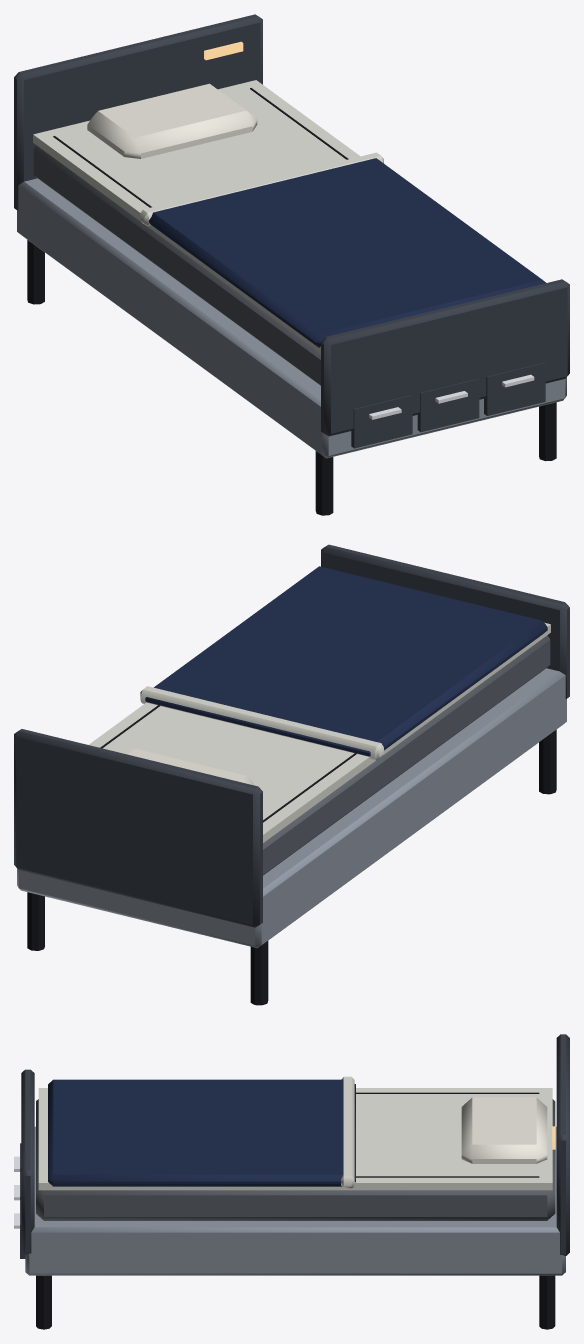
Rendered from bed_single_bunk.glb.
3 renders of one model, top to bottom at view 1: azimuth 30°, elevation 25°; view 2: azimuth 150°, elevation 25°; view 3: azimuth 270°, elevation 25°, orthographic. The views are drawn at different scales.
Parts seen in each view (by area): view 1: bed_single_bunk; view 2: bed_single_bunk; view 3: bed_single_bunk.
Part boxes in pixels (x1=…): bed_single_bunk: x1=14, y1=14, x2=569, y2=515; bed_single_bunk: x1=14, y1=544, x2=569, y2=1005; bed_single_bunk: x1=14, y1=1034, x2=569, y2=1329.
Size of the model in its own units: 0.926 by 0.8 by 2.08.
